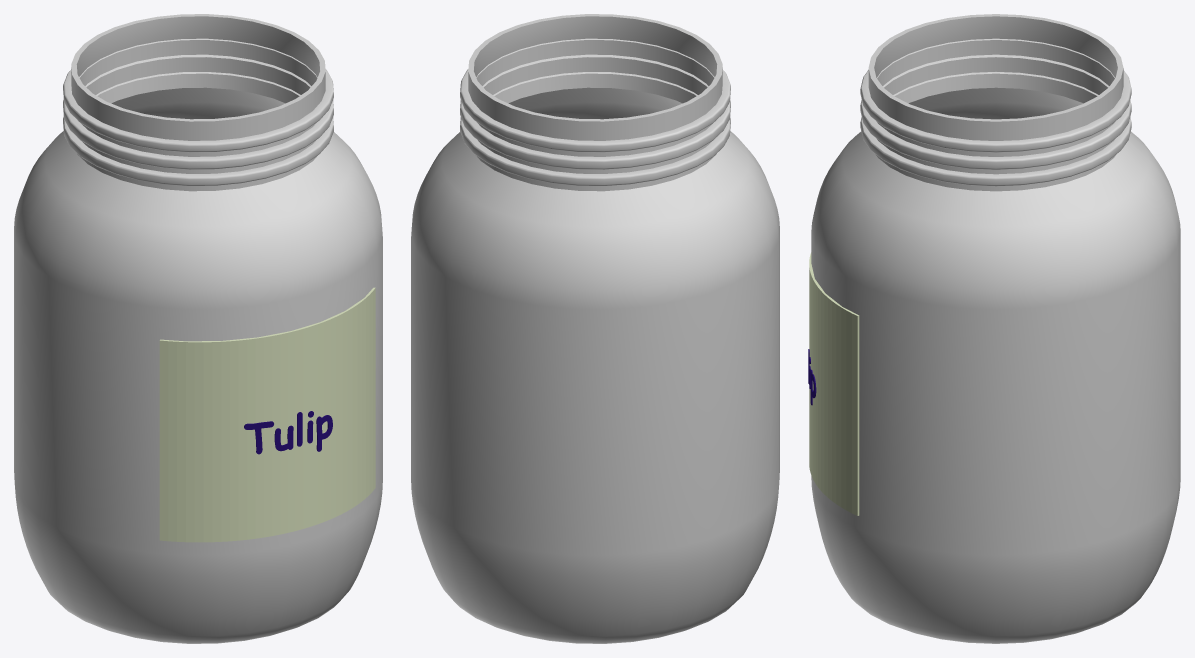
Rendered from Jar_Tulip.fbx.
The picture shows the model from 3 angles, left to right: view 1: azimuth 30°, elevation 25°; view 2: azimuth 150°, elevation 25°; view 3: azimuth 270°, elevation 25°; orthographic projection.
Parts seen in each view (by area): view 1: Jar.003; view 2: Jar.003; view 3: Jar.003.
Boxes of the visible parts, box(x1,y1,x2,y2) form: Jar.003: box(14, 14, 382, 643); Jar.003: box(411, 14, 779, 643); Jar.003: box(808, 14, 1180, 643).
Bounding box in the file's own units: 25.69 × 39.71 × 25.91.
